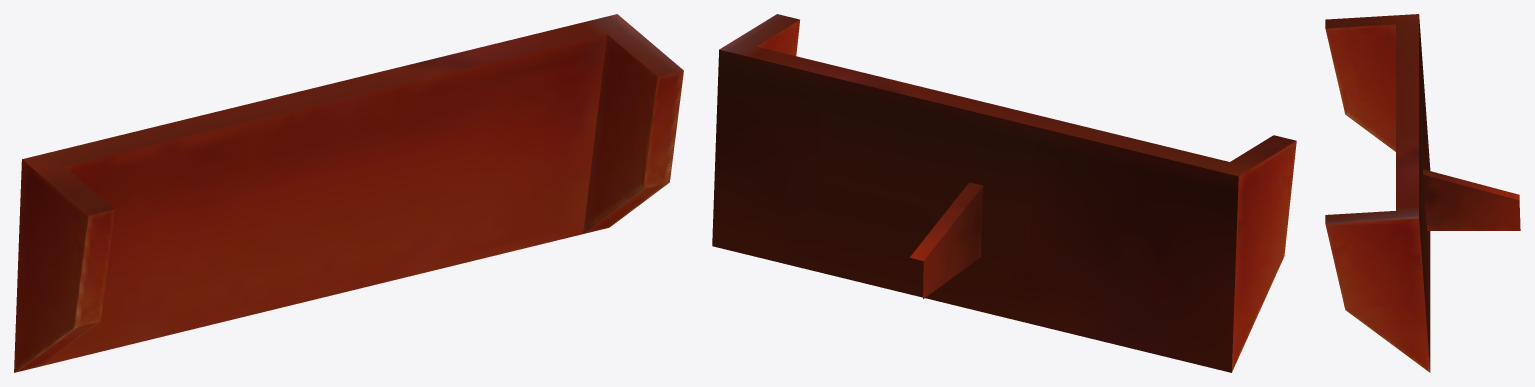
The model's file is Kart 2 Spoiler.glb.
3 renders of one model, left to right at view 1: azimuth 30°, elevation 25°; view 2: azimuth 150°, elevation 25°; view 3: azimuth 270°, elevation 25°, orthographic. The views are drawn at different scales.
Visible parts, largest first — view 1: spoiler; view 2: spoiler; view 3: spoiler.
Boxes of the visible parts, x1=… form: spoiler: x1=14, y1=14, x2=683, y2=372; spoiler: x1=712, y1=14, x2=1296, y2=372; spoiler: x1=1325, y1=14, x2=1520, y2=372.
Bounding box in the file's own units: 1.49 × 0.5241 × 0.6.
1 material, 1 textured.
